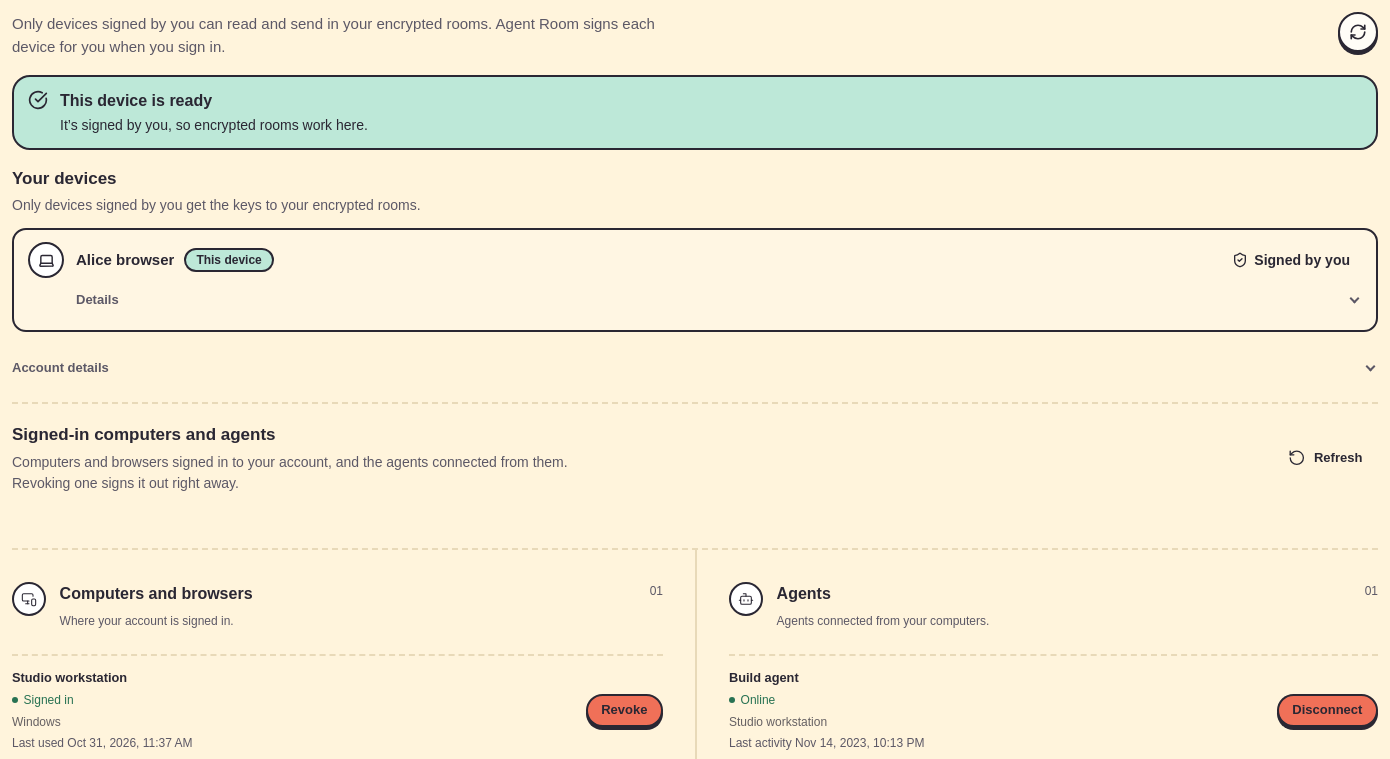
Scenario: SecurityWorkspace › 已登录的电脑和 Agent 分开列，撤销电脑要确认并说清会断开上面的 Agent
Expected: the text "Studio workstation" below "Where your account is signed in." is shown, [12,670,127,685]
Expected: the text "Build agent" is shown, [729,670,799,685]
Click the button "Revoke" at [624, 710], box [586,694,663,727]
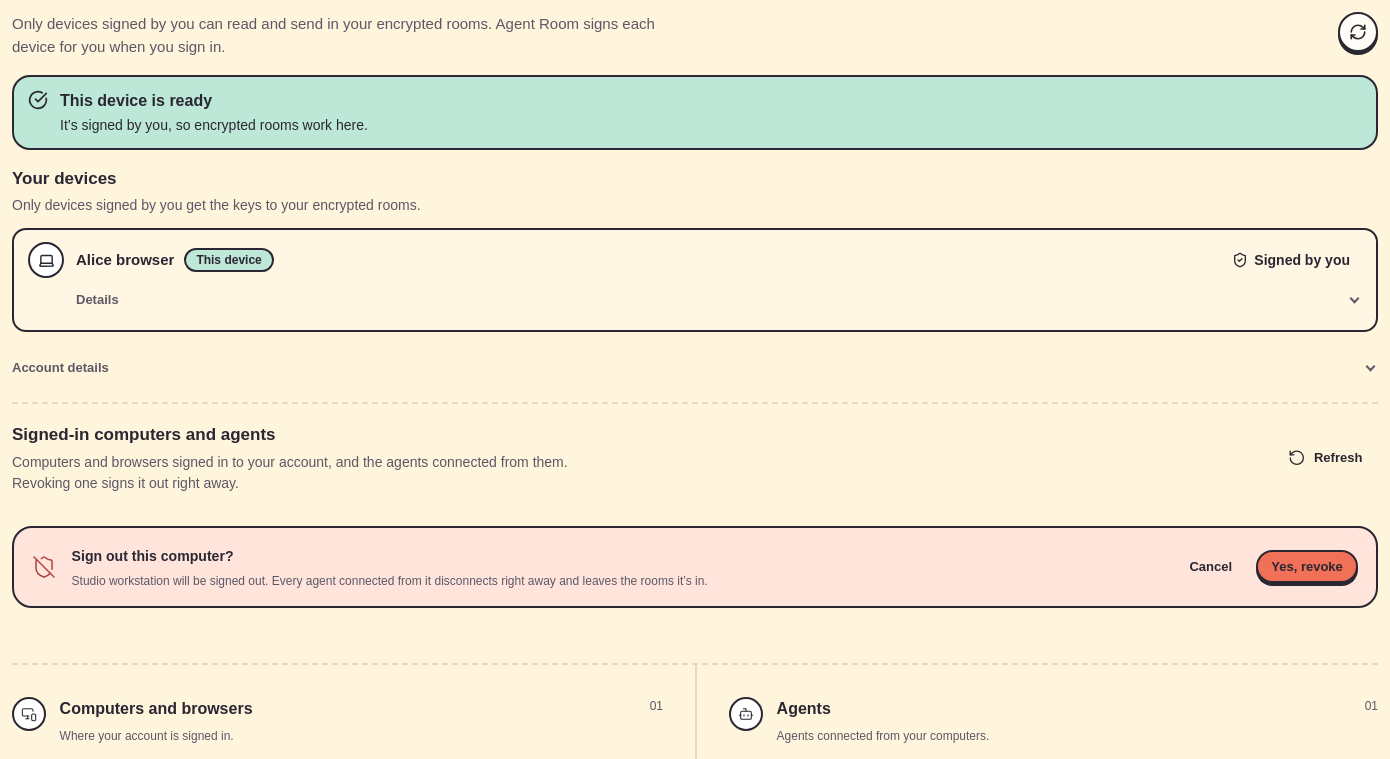
Now the text "Sign out this computer?" is shown, box [72,548,234,564]
Click the button "Yes, revoke" at [1307, 567], box [1256,550,1358,583]
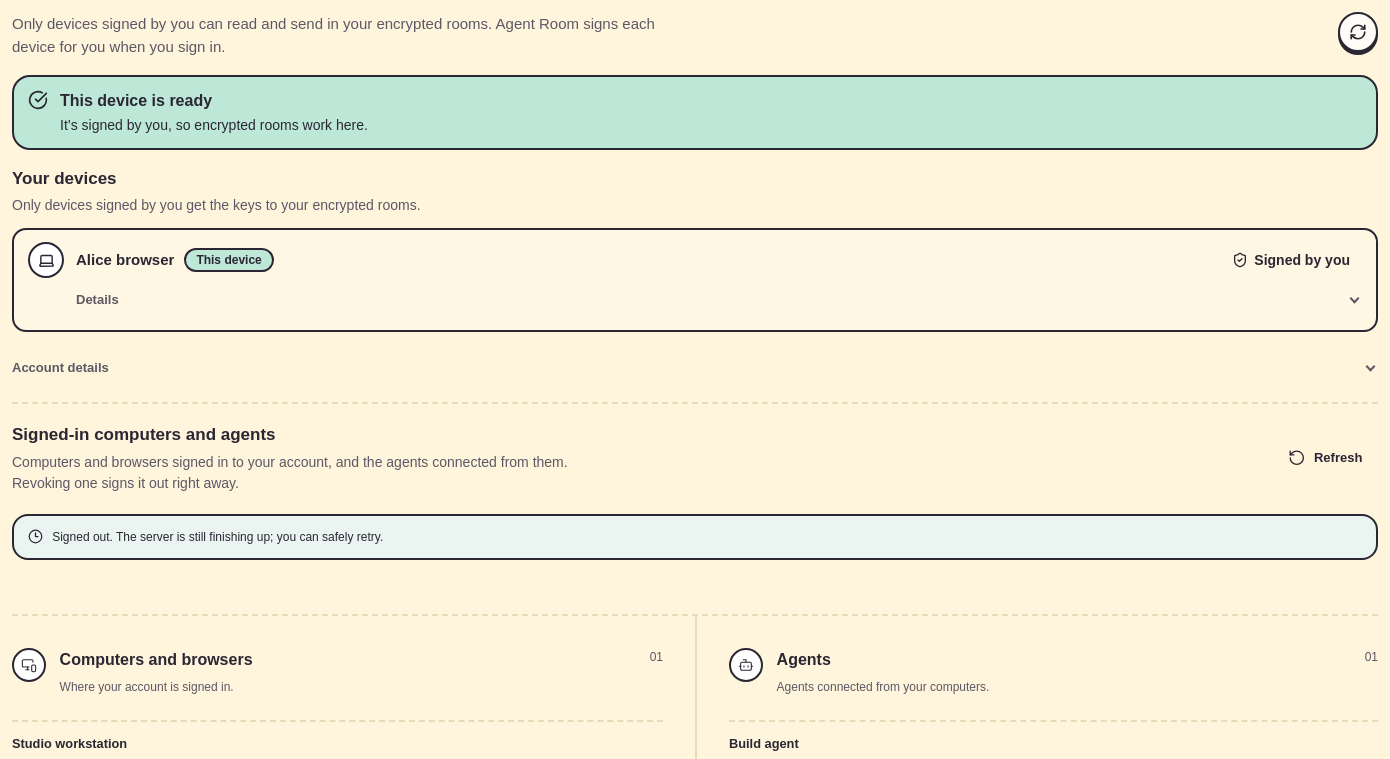
Now the text "Signed out. The server is still finishing up" is shown, box [52,530,383,544]
